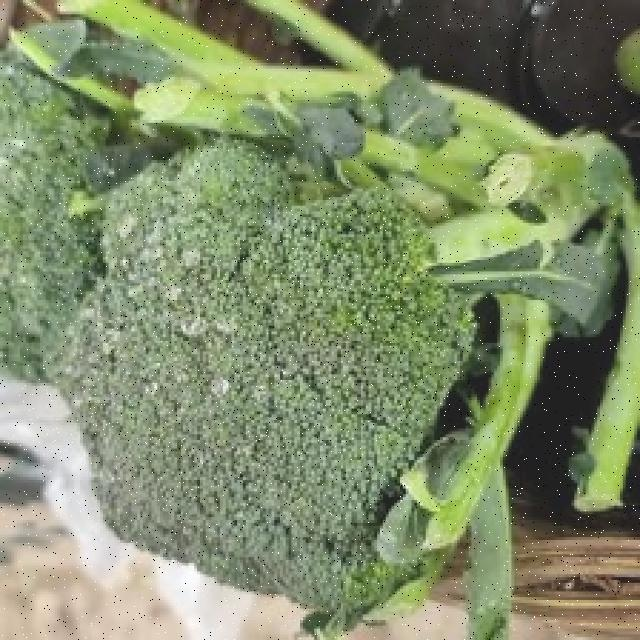Broccoli: (0, 62, 504, 639)
